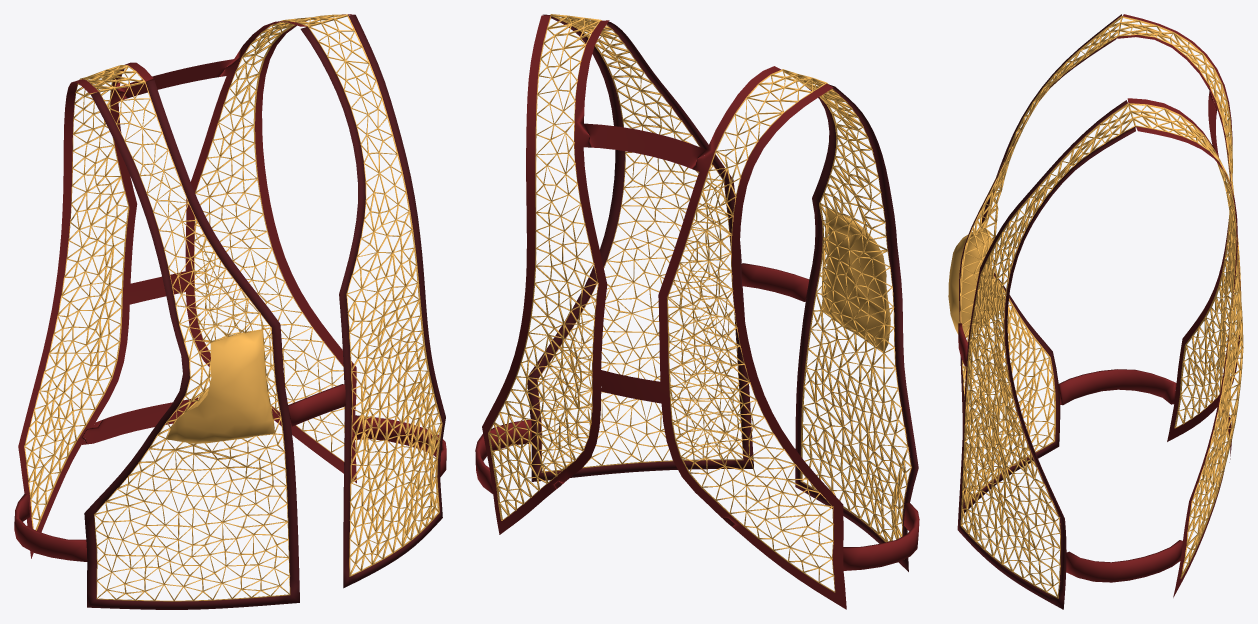
File: vest.gltf
The picture shows the model from 3 angles, left to right: view 1: azimuth 30°, elevation 25°; view 2: azimuth 150°, elevation 25°; view 3: azimuth 270°, elevation 25°; orthographic projection. The views are drawn at different scales.
Parts seen in each view (by area): view 1: Pattern2D_6735816, Pattern2D_6735815, Shape2D_9832781, Pattern2D_6735812.001, Pattern2D_6735813, Pattern2D_9482207, Pattern2D_9482210; view 2: Pattern2D_6735816, Pattern2D_6735815, Pattern2D_6735812.001, Pattern2D_6735813, Pattern2D_9482207, Pattern2D_9482210, Shape2D_9832780, Shape2D_9832781; view 3: Pattern2D_6735816, Pattern2D_6735815, Pattern2D_9482207, Pattern2D_6735812.001, Pattern2D_6735813, Shape2D_9832780, Shape2D_9832781, Pattern2D_9482210.
Boxes of the visible parts, left/top/right/bottom form: Pattern2D_6735816: left=24, top=14, right=442, bottom=601; Pattern2D_6735815: left=84, top=14, right=445, bottom=609; Shape2D_9832781: left=167, top=330, right=274, bottom=443; Pattern2D_6735812.001: left=18, top=62, right=153, bottom=558; Pattern2D_6735813: left=185, top=14, right=356, bottom=483; Pattern2D_9482207: left=14, top=384, right=446, bottom=561; Pattern2D_9482210: left=82, top=59, right=233, bottom=444; Pattern2D_6735816: left=488, top=14, right=911, bottom=592; Pattern2D_6735815: left=527, top=14, right=918, bottom=571; Pattern2D_6735812.001: left=658, top=66, right=846, bottom=609; Pattern2D_6735813: left=482, top=15, right=609, bottom=534; Pattern2D_9482207: left=475, top=263, right=919, bottom=570; Pattern2D_9482210: left=583, top=123, right=706, bottom=403; Shape2D_9832780: left=822, top=209, right=884, bottom=351; Shape2D_9832781: left=831, top=209, right=890, bottom=350; Pattern2D_6735816: left=959, top=16, right=1243, bottom=598; Pattern2D_6735815: left=957, top=14, right=1135, bottom=609; Pattern2D_9482207: left=958, top=323, right=1182, bottom=582; Pattern2D_6735812.001: left=1117, top=14, right=1240, bottom=441; Pattern2D_6735813: left=1127, top=98, right=1237, bottom=597; Shape2D_9832780: left=961, top=229, right=1004, bottom=336; Shape2D_9832781: left=948, top=230, right=979, bottom=334; Pattern2D_9482210: left=1208, top=91, right=1231, bottom=462.
Size of the model in its own units: 4.44 by 5.09 by 2.94.
